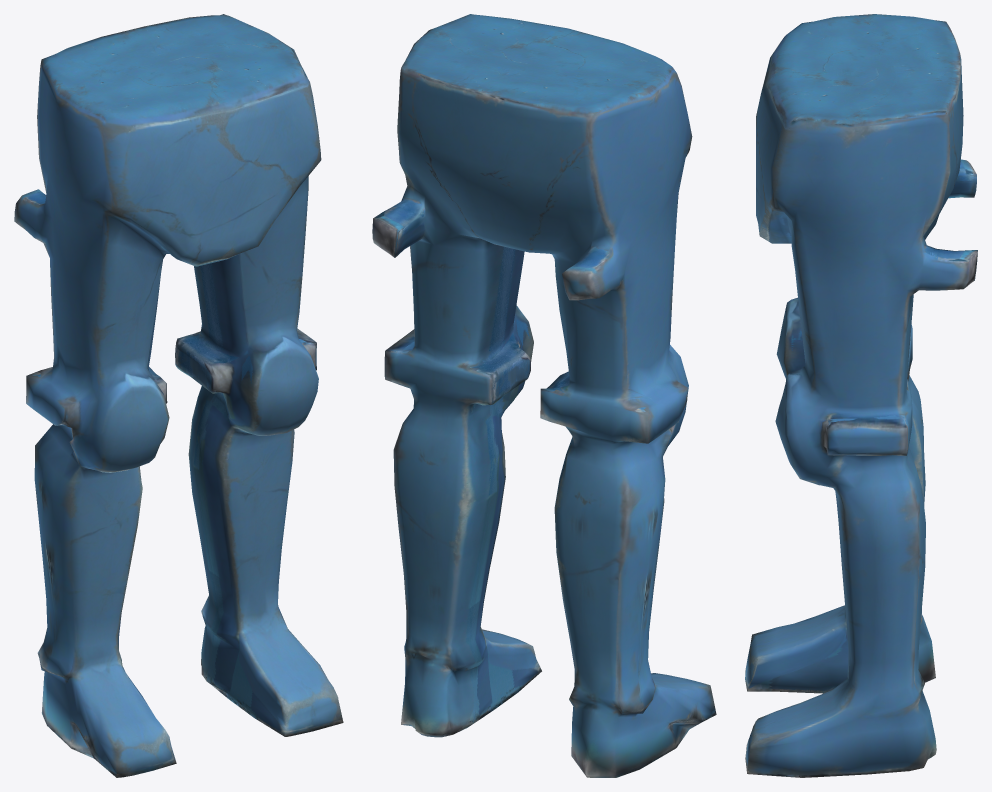
Rendered from legs-metal-mithril_backup.glb.
3 views of the same model, side by side, from view 1: azimuth 30°, elevation 25°; view 2: azimuth 150°, elevation 25°; view 3: azimuth 270°, elevation 25° (orthographic). The views are drawn at different scales.
Bounding box in the file's own units: 0.8227 × 2 × 0.646.
1 material, 1 textured.
